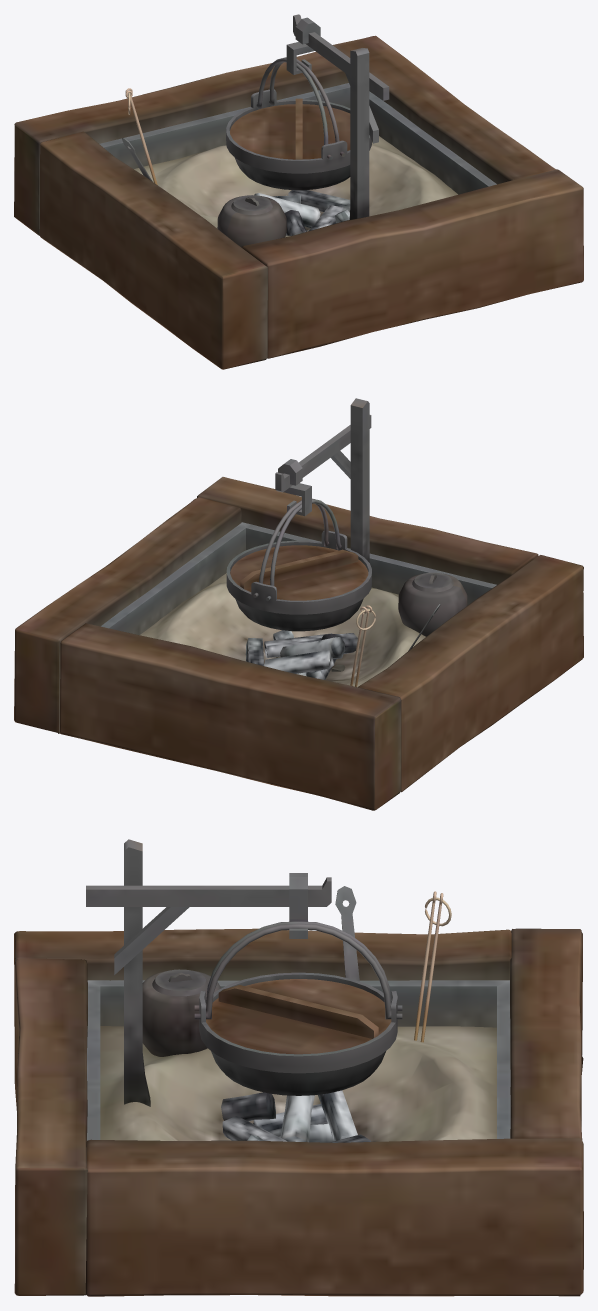
File: SM_Hearth_60e8f6.glb
3 renders of one model, top to bottom at view 1: azimuth 30°, elevation 25°; view 2: azimuth 150°, elevation 25°; view 3: azimuth 270°, elevation 25°, orthographic. The views are drawn at different scales.
Size of the model in its own units: 1.21 by 0.7841 by 1.21.
Materials: 1 (1 with a texture image).
